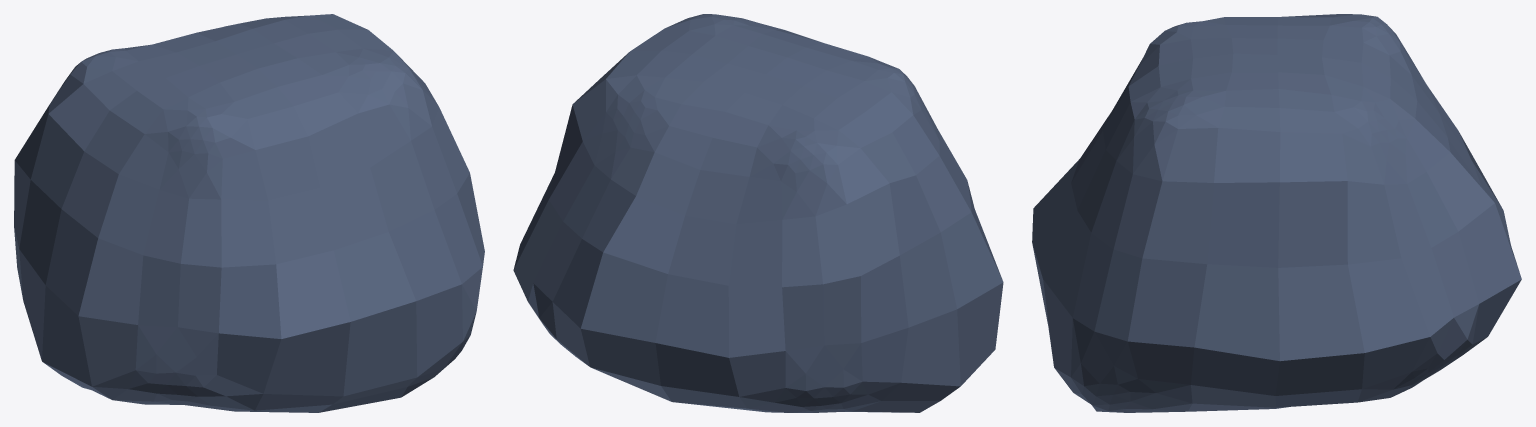
File: Stone3.obj
The picture shows the model from 3 angles, left to right: view 1: azimuth 30°, elevation 25°; view 2: azimuth 150°, elevation 25°; view 3: azimuth 270°, elevation 25°; orthographic projection. The views are drawn at different scales.
Parts seen in each view (by area): view 1: Куб; view 2: Куб; view 3: Куб.
Boxes of the visible parts, x1,y1,x2,y2 form: Куб: (14, 14, 484, 412); Куб: (513, 14, 1003, 412); Куб: (1032, 14, 1521, 412).
Size of the model in its own units: 2.57 by 1.83 by 2.56.
